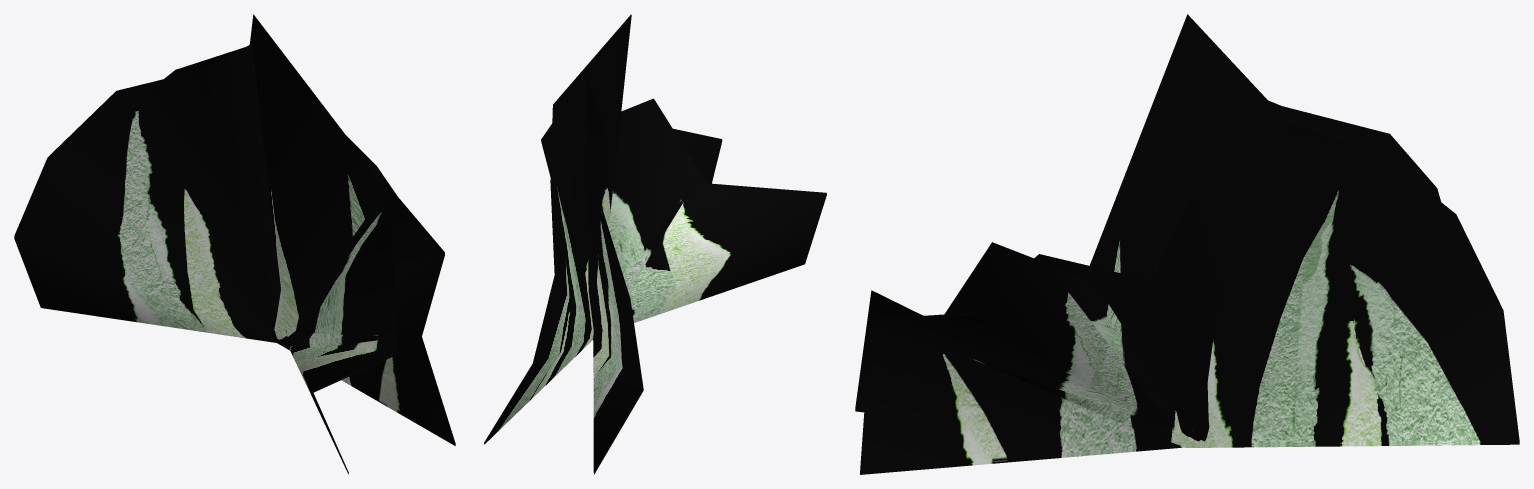
The model's file is Grass.fbx.
3 renders of one model, left to right at view 1: azimuth 30°, elevation 25°; view 2: azimuth 150°, elevation 25°; view 3: azimuth 270°, elevation 25°, orthographic. The views are drawn at different scales.
Visible parts, largest first — view 1: pasted__pCylinder6, pCylinder6; view 2: pCylinder6, pasted__pCylinder6; view 3: pCylinder6, pasted__pCylinder6.
Part boxes in pixels (box(x1,y1,x2,y2)): pasted__pCylinder6: box(14, 44, 455, 445); pCylinder6: box(164, 14, 397, 474); pCylinder6: box(484, 14, 826, 444); pasted__pCylinder6: box(541, 77, 722, 474); pCylinder6: box(855, 14, 1519, 447); pasted__pCylinder6: box(860, 91, 1440, 474).
Bounding box in the file's own units: 36.87 × 54.75 × 74.9.
